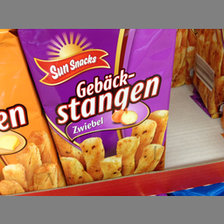chips: (22, 28, 176, 182)
